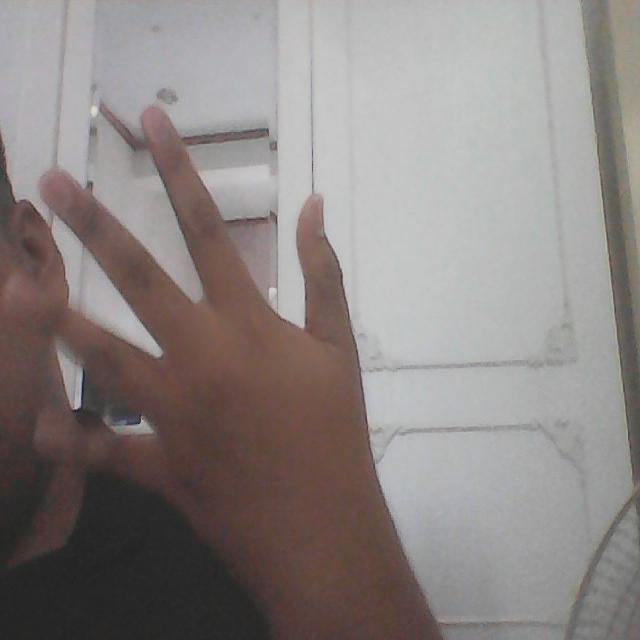hand: (44, 94, 423, 640)
